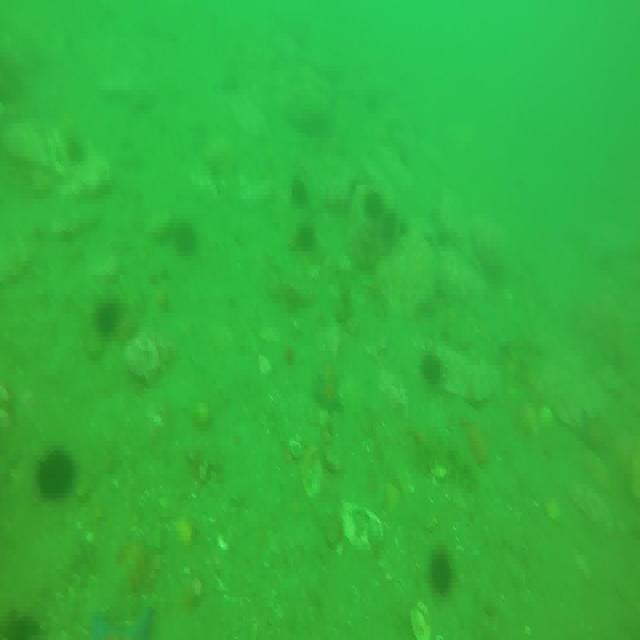echinus: (35, 445, 78, 496), (0, 610, 49, 640), (94, 292, 124, 340), (433, 546, 454, 597), (176, 220, 199, 262), (288, 171, 310, 211), (422, 349, 442, 391), (298, 220, 319, 250), (366, 191, 384, 221)
starfish: (88, 601, 154, 640), (316, 365, 344, 415)
